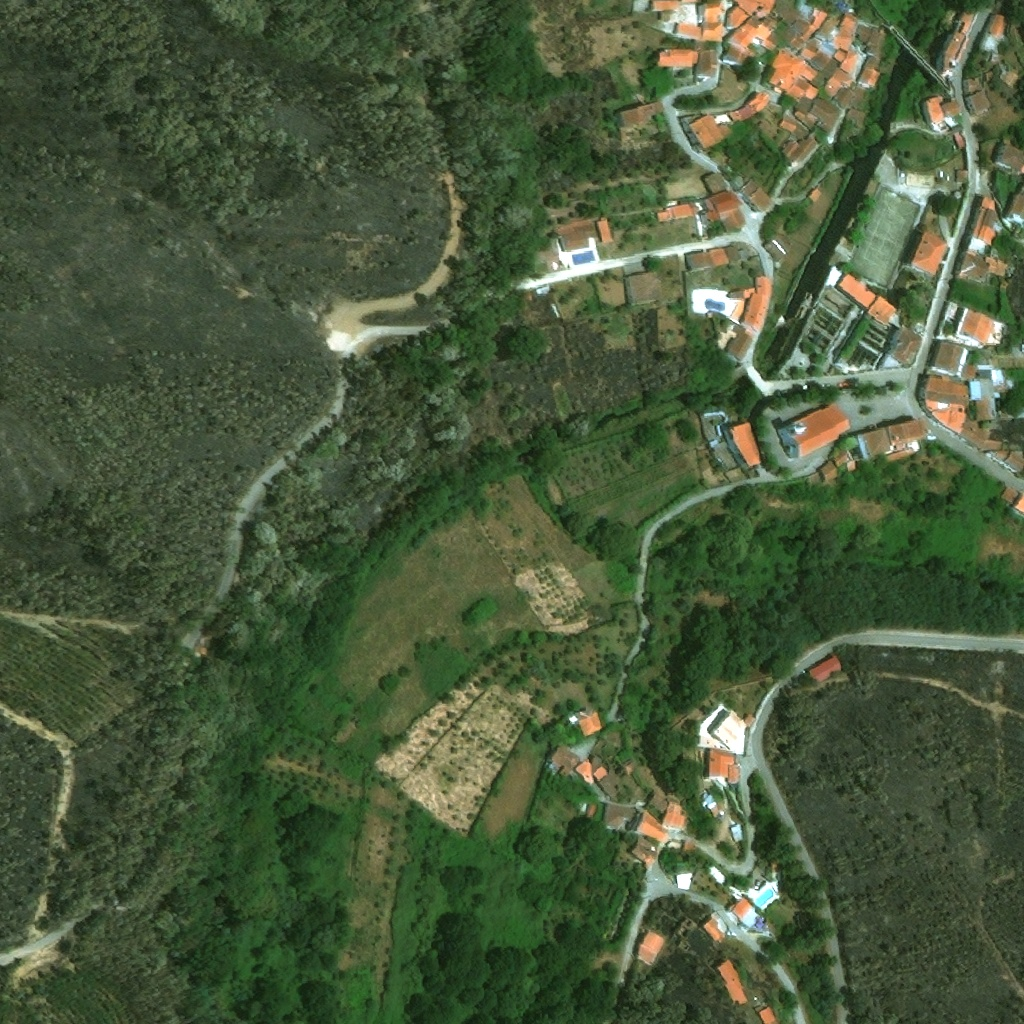0 no-damage: (772, 401, 854, 461), (858, 418, 930, 467), (726, 276, 774, 333), (767, 49, 819, 100), (901, 225, 948, 278), (938, 8, 976, 72), (719, 418, 763, 473), (964, 192, 1009, 245), (923, 341, 981, 381), (699, 191, 746, 233), (730, 16, 782, 52), (917, 372, 969, 408), (687, 112, 732, 151), (713, 959, 748, 1007), (957, 420, 1011, 451), (836, 271, 878, 310), (719, 323, 757, 366), (889, 323, 924, 369), (919, 402, 969, 434), (957, 308, 998, 347), (976, 11, 1012, 54), (553, 217, 597, 252), (711, 710, 748, 751), (652, 39, 704, 68), (541, 742, 580, 780), (818, 14, 854, 53), (617, 99, 664, 128), (739, 178, 775, 215), (952, 251, 991, 285), (779, 135, 820, 167), (625, 272, 663, 306), (632, 929, 666, 967), (567, 707, 603, 741), (992, 138, 1023, 177), (855, 24, 888, 60), (810, 97, 841, 134), (634, 811, 668, 844), (804, 658, 842, 687), (866, 295, 899, 328), (708, 750, 738, 786), (821, 67, 853, 100), (626, 839, 659, 871), (729, 897, 759, 931), (764, 230, 795, 262), (734, 0, 781, 21), (702, 1, 726, 41), (984, 244, 1011, 278), (656, 201, 696, 223), (692, 50, 717, 84), (987, 450, 1023, 473), (601, 803, 634, 828), (834, 48, 863, 76), (919, 96, 946, 126), (700, 914, 726, 945), (963, 89, 991, 117), (779, 25, 808, 52), (725, 42, 756, 66), (995, 64, 1020, 93), (597, 771, 622, 800), (682, 248, 712, 272), (601, 731, 621, 767), (572, 757, 594, 789), (960, 236, 989, 260), (727, 101, 757, 124), (776, 115, 805, 138), (726, 5, 752, 30), (792, 15, 817, 41), (747, 88, 772, 113), (855, 67, 880, 91), (703, 171, 728, 195), (777, 2, 801, 26), (833, 87, 858, 110), (817, 458, 838, 485), (833, 448, 856, 472), (793, 108, 818, 130), (997, 484, 1021, 506), (706, 246, 730, 267), (595, 214, 613, 242), (662, 811, 686, 832), (810, 6, 830, 29), (725, 245, 750, 263), (975, 399, 995, 421), (673, 22, 701, 37), (816, 42, 836, 61), (805, 187, 824, 206), (943, 100, 962, 119), (963, 78, 984, 95), (845, 111, 864, 129), (809, 53, 829, 70), (862, 55, 883, 71), (998, 405, 1023, 418), (756, 1007, 776, 1023), (795, 97, 813, 114), (806, 35, 824, 52), (592, 765, 608, 784), (952, 132, 967, 152), (811, 71, 827, 89), (839, 14, 858, 29), (969, 381, 982, 400), (799, 46, 815, 61), (741, 713, 757, 728), (707, 807, 724, 821), (954, 171, 968, 185), (681, 842, 697, 853), (988, 54, 1000, 65), (587, 805, 596, 819)
4 un-classified: (1001, 182, 1023, 224), (821, 172, 844, 196), (652, 0, 680, 12), (1012, 492, 1023, 513), (681, 0, 698, 5)
